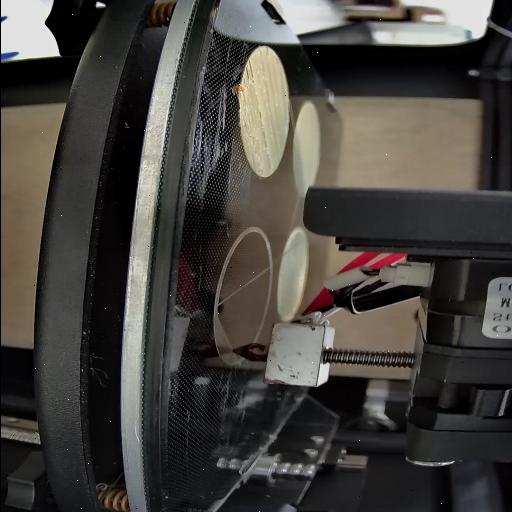under_extrusion: (256, 112, 270, 164), (236, 59, 256, 89), (262, 45, 270, 59)
